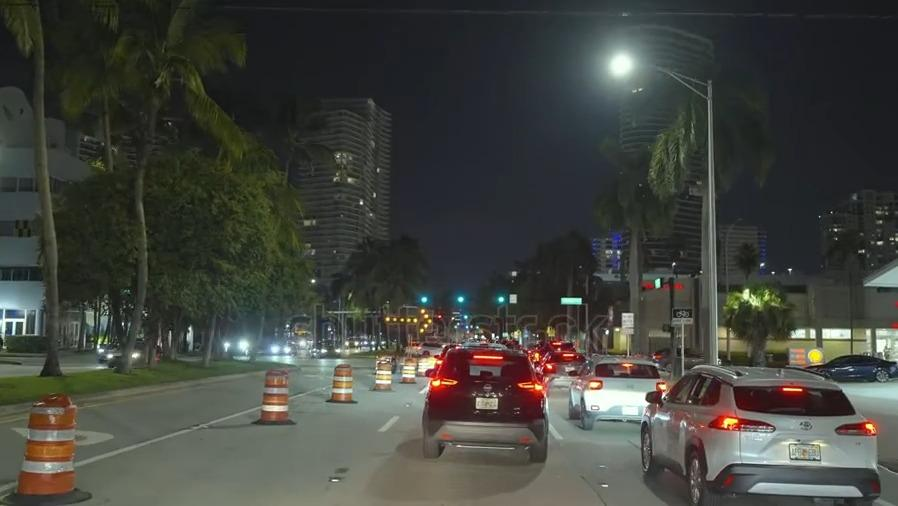arrow traffic sign: (387, 305, 435, 338)
car: (649, 371, 878, 498), (421, 347, 547, 467), (565, 356, 656, 427), (802, 351, 898, 382), (101, 340, 163, 367), (537, 349, 577, 386), (214, 331, 255, 359), (311, 340, 341, 359), (269, 337, 296, 355)
cone: (21, 395, 78, 493), (260, 367, 291, 422), (329, 361, 354, 402), (373, 357, 391, 391), (399, 355, 415, 382), (417, 358, 427, 375)
traffic light: (494, 287, 515, 312), (452, 291, 469, 309), (417, 292, 431, 311)
wheel: (684, 443, 709, 501), (636, 426, 659, 471)
